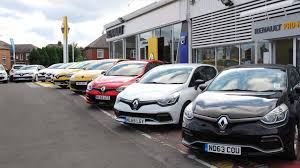car: (182, 65, 299, 161), (114, 64, 217, 125), (86, 61, 163, 102), (70, 59, 127, 89), (53, 60, 90, 87), (10, 64, 44, 82), (1, 64, 9, 83)
